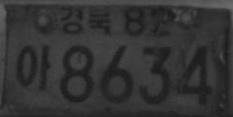2: (149, 5, 171, 37)
3: (137, 44, 172, 106)
4: (176, 45, 212, 106)
6: (99, 44, 135, 104)
8: (58, 44, 95, 104), (123, 4, 146, 36)
경북_H: (60, 4, 111, 36)
아: (15, 44, 52, 91)
